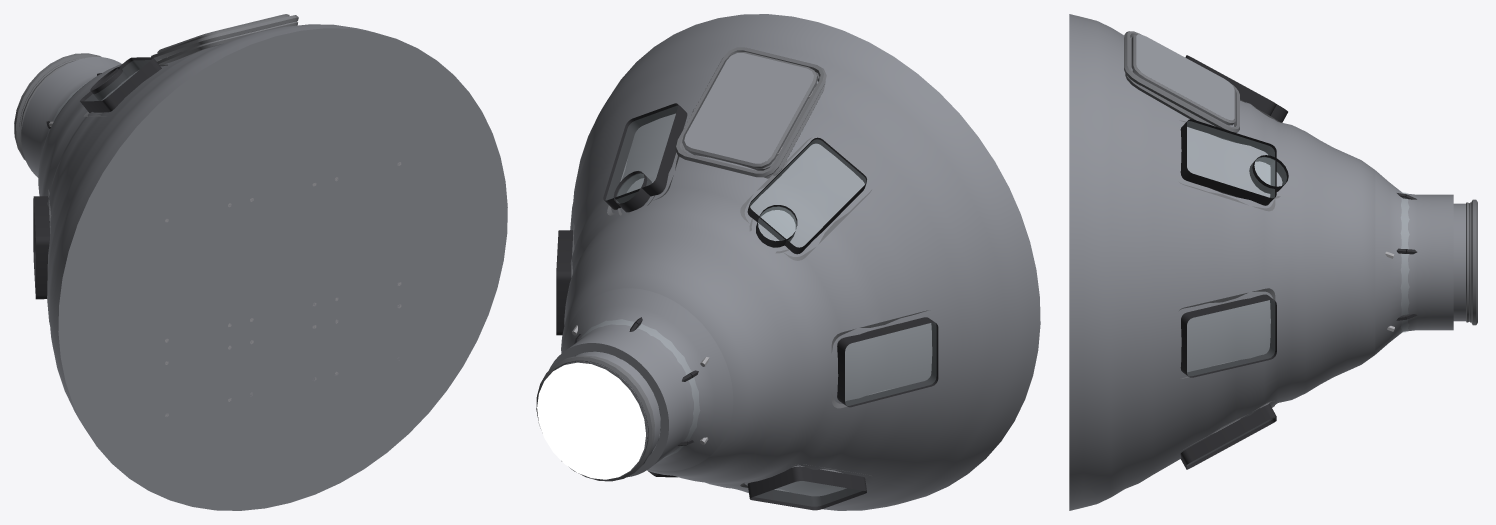
Rendered from mengzhou.glb.
3 views of the same model, side by side, from view 1: azimuth 30°, elevation 25°; view 2: azimuth 150°, elevation 25°; view 3: azimuth 270°, elevation 25° (orthographic). The views are drawn at different scales.
Parts seen in each view (by area): view 1: shell_cupola, shell_panoramic, frame_panoramic0, frame_panoramic1, hatchframe_inward, hatchframe_top, hatchframe_side, glass_panoramic0, frame_small1; view 2: shell_cupola, shell_panoramic, door_inward, plug_top, glass_panoramic0, glass_panoramic1, frame_panoramic2, glass_panoramic5, frame_panoramic5, frame_panoramic1, hatchframe_inward, frame_panoramic0 (+9 smaller); view 3: shell_cupola, shell_panoramic, glass_panoramic4, door_inward, glass_panoramic5, frame_panoramic5, frame_panoramic4, docking, frame_panoramic3, hatchframe_inward, hatchframe_top, frame_panoramic0 (+5 smaller).
Boxes of the visible parts, left/top/right/bottom form: shell_cupola: left=38, top=24, right=507, bottom=510; shell_panoramic: left=21, top=57, right=169, bottom=238; frame_panoramic0: left=80, top=57, right=167, bottom=116; frame_panoramic1: left=33, top=189, right=51, bottom=299; hatchframe_inward: left=151, top=15, right=298, bottom=61; hatchframe_top: left=14, top=53, right=101, bottom=160; hatchframe_side: left=157, top=21, right=297, bottom=64; glass_panoramic0: left=86, top=60, right=149, bottom=100; frame_small1: left=90, top=66, right=132, bottom=100; shell_cupola: left=561, top=14, right=1040, bottom=510; shell_panoramic: left=549, top=96, right=930, bottom=483; door_inward: left=682, top=52, right=817, bottom=168; plug_top: left=537, top=362, right=645, bottom=479; glass_panoramic0: left=750, top=140, right=865, bottom=246; glass_panoramic1: left=845, top=323, right=935, bottom=405; frame_panoramic2: left=740, top=464, right=871, bottom=510; glass_panoramic5: left=606, top=106, right=677, bottom=199; frame_panoramic5: left=603, top=103, right=693, bottom=215; frame_panoramic1: left=831, top=310, right=938, bottom=408; hatchframe_inward: left=675, top=47, right=826, bottom=177; frame_panoramic0: left=740, top=137, right=871, bottom=260; shell_cupola: left=1069, top=14, right=1375, bottom=510; shell_panoramic: left=1167, top=100, right=1453, bottom=462; glass_panoramic4: left=1187, top=300, right=1274, bottom=375; door_inward: left=1131, top=34, right=1235, bottom=125; glass_panoramic5: left=1187, top=121, right=1274, bottom=197; frame_panoramic5: left=1179, top=119, right=1276, bottom=211; frame_panoramic4: left=1179, top=288, right=1276, bottom=378; docking: left=1453, top=202, right=1471, bottom=322; frame_panoramic3: left=1180, top=400, right=1276, bottom=469; hatchframe_inward: left=1124, top=31, right=1239, bottom=132; hatchframe_top: left=1471, top=199, right=1477, bottom=325; frame_panoramic0: left=1185, top=55, right=1276, bottom=119.
Size of the model in its own units: 2.86 by 2.86 by 2.37.
